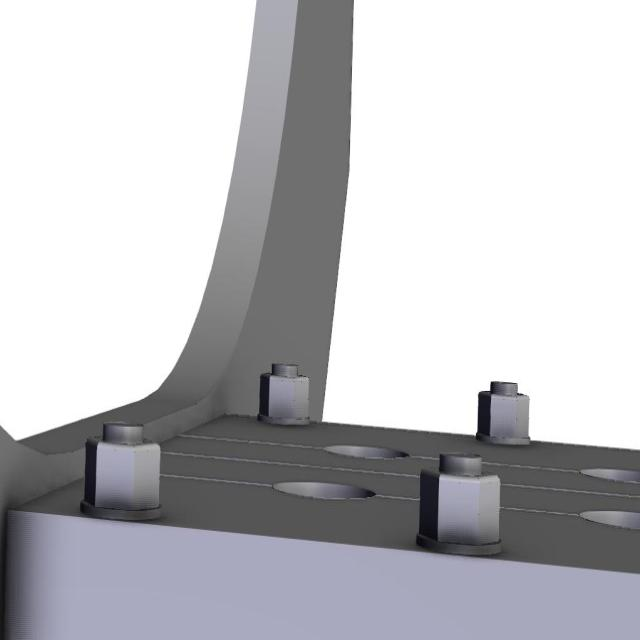bolt side: (418, 464, 503, 546), (84, 427, 164, 513), (258, 365, 311, 426), (476, 383, 532, 439)
